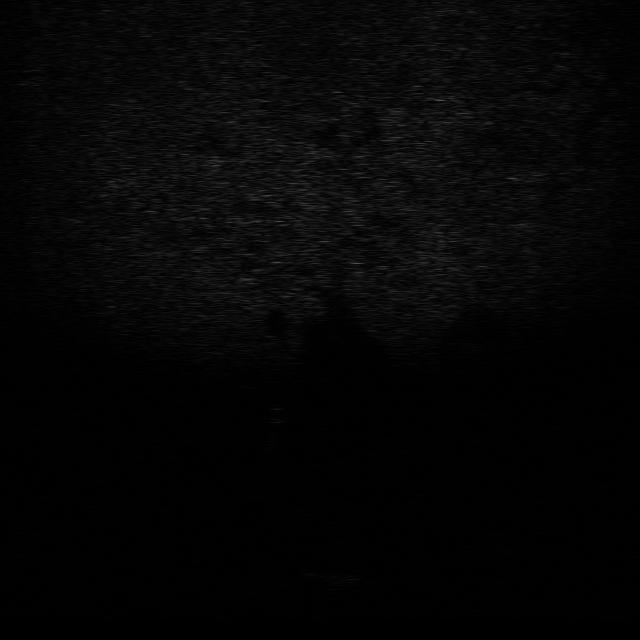ball: (258, 402, 292, 425)
metal bucket: (290, 564, 378, 594)
tyre: (465, 518, 527, 560)
